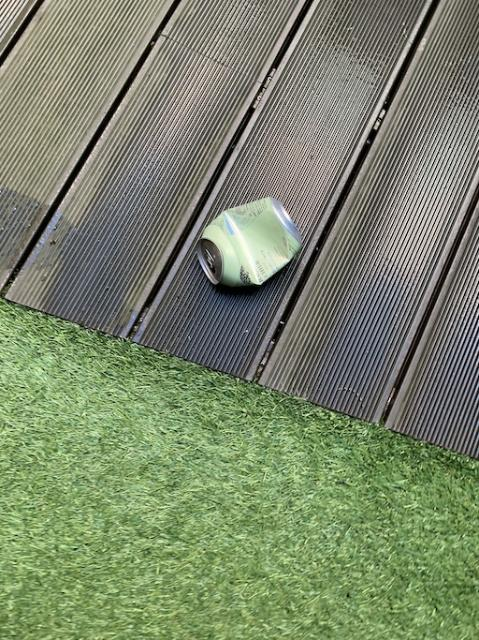metal: (197, 198, 302, 287)
